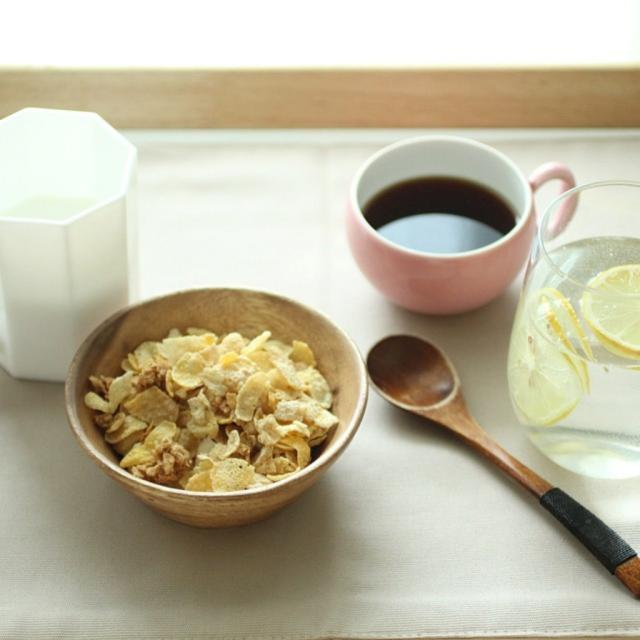Coffee: (327, 142, 554, 312)
Tea: (360, 177, 519, 257)
